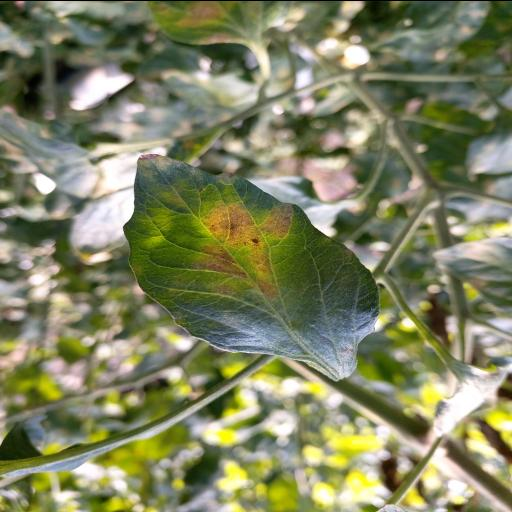Leaf Mold: (120, 152, 380, 378)
